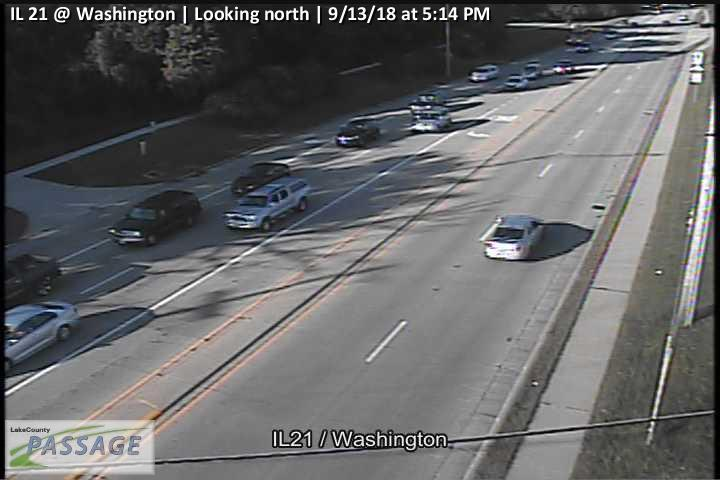SUV: (106, 189, 202, 246), (222, 174, 311, 231), (469, 64, 501, 82)
Sedan: (3, 300, 79, 371), (1, 251, 60, 305), (484, 213, 544, 261), (231, 162, 290, 196), (335, 122, 378, 147), (409, 113, 451, 133), (503, 75, 529, 91)
